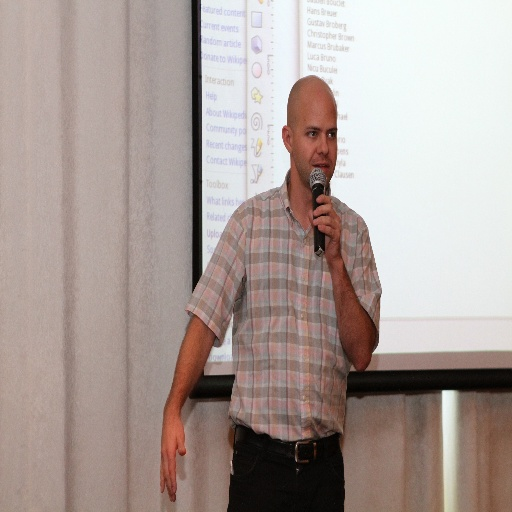hand: (159, 412, 186, 501), (309, 192, 341, 260)
